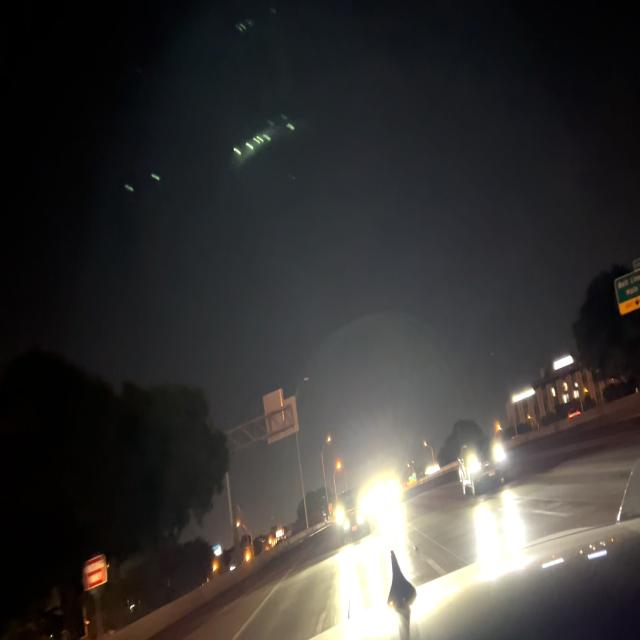back-of-sign: (265, 389, 299, 446)
